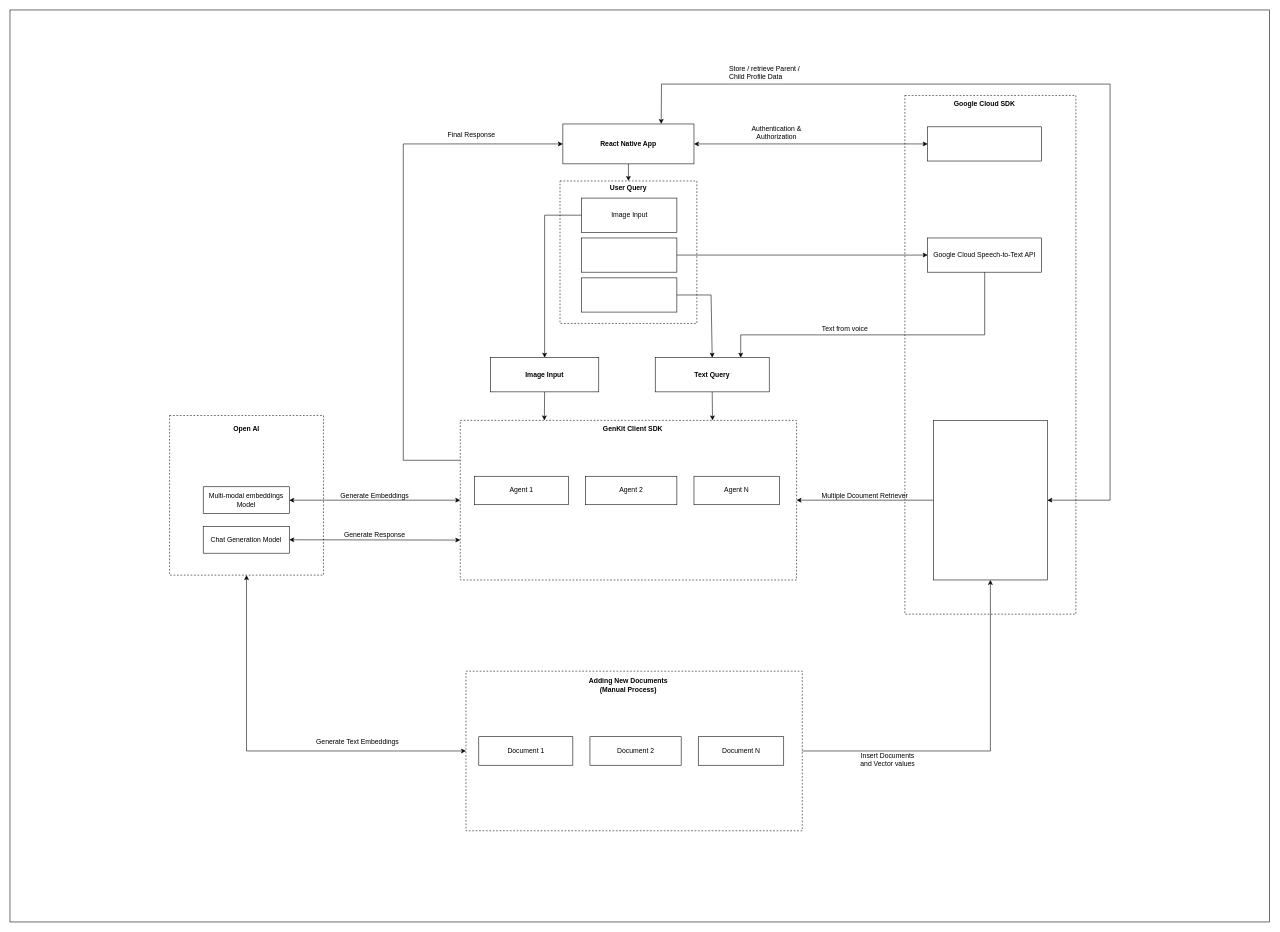
Some shapes in this 1280 by 932 pixel diagram are drawn without their labels. The centre of each missing label's shape, as x and y in pixels:
"Firebase Authentication" goes at [984,143].
"Firestore" goes at [990,500].
"Text Input" goes at [629,294].
"Voice Input" goes at [629,254].
